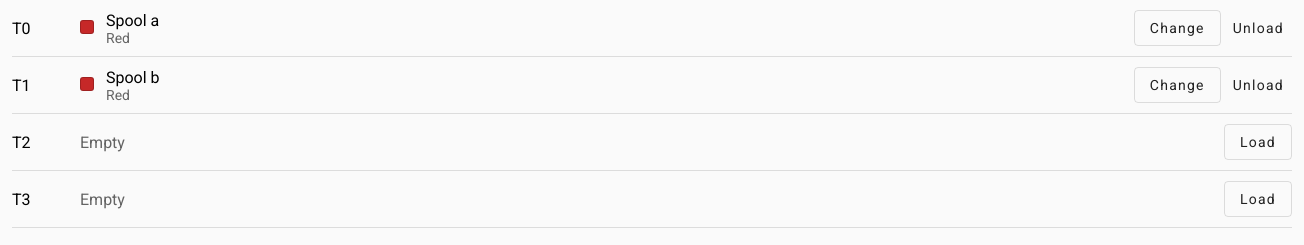
Test: PrinterSlotsComponent › unloads one slot
Click the button with test id "slot-unload" showing "Unload" at (1258,28), box [1225,10,1292,46]
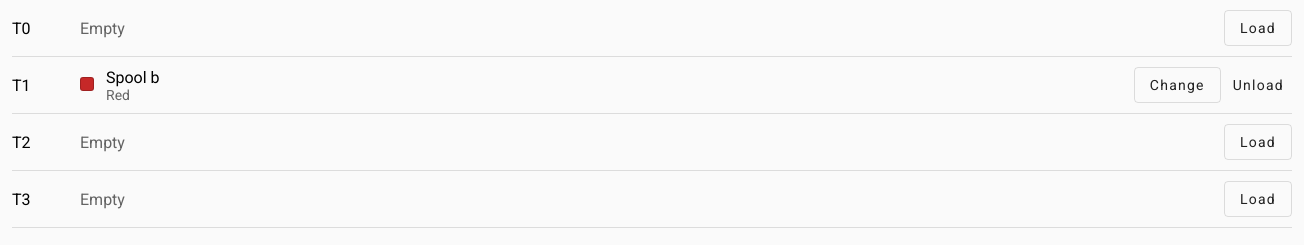
Now the list item with test id "printer-slot" shows "Empty", box [80,18,125,38]
